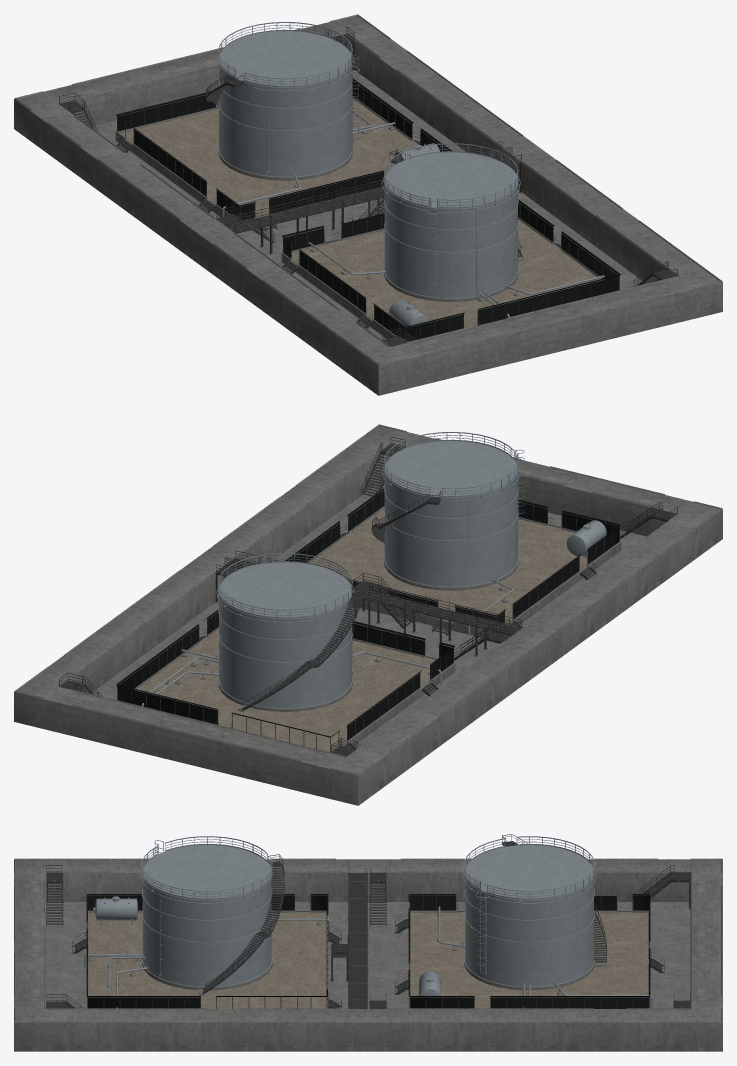
The model's file is SM_FuelSilo_Combined.fbx.
The picture shows the model from 3 angles, top to bottom: view 1: azimuth 30°, elevation 25°; view 2: azimuth 150°, elevation 25°; view 3: azimuth 270°, elevation 25°; orthographic projection. The views are drawn at different scales.
Parts seen in each view (by area): view 1: SM_FuelSilo_Combined_LOD0; view 2: SM_FuelSilo_Combined_LOD0; view 3: SM_FuelSilo_Combined_LOD0.
Part boxes in pixels (x1,y1,x2,y2): SM_FuelSilo_Combined_LOD0: (14, 14, 722, 395); SM_FuelSilo_Combined_LOD0: (14, 424, 722, 805); SM_FuelSilo_Combined_LOD0: (14, 834, 722, 1051).
Size of the model in its own units: 4800 by 8800 by 1472.
Materials: 8 (8 with a texture image).
